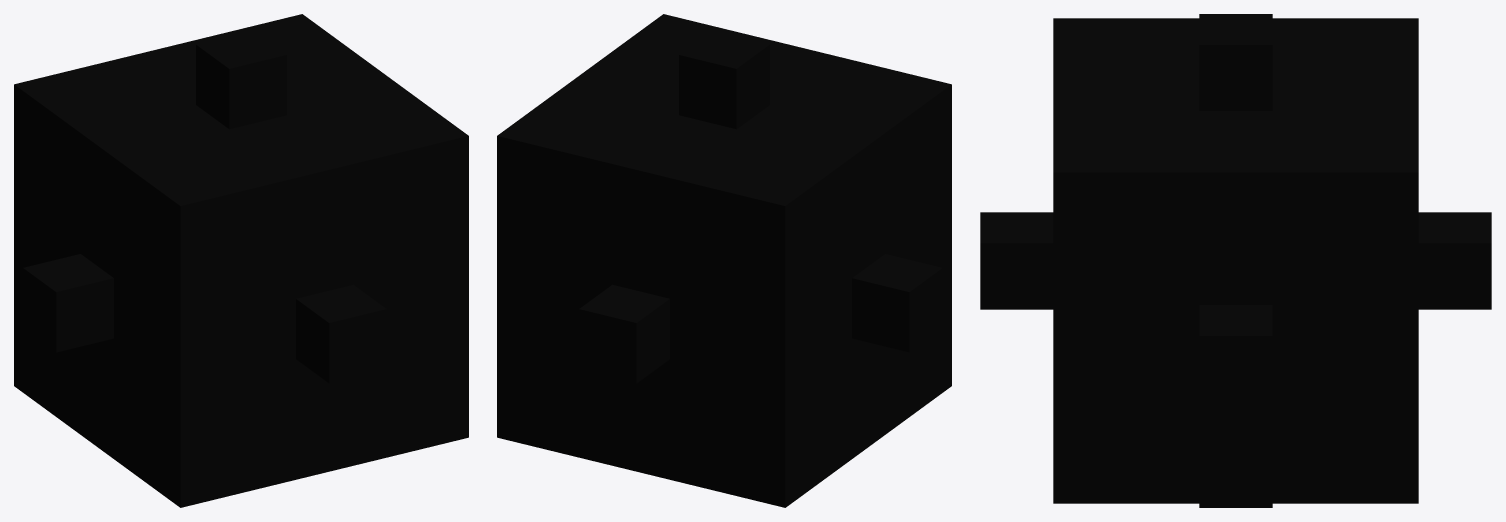
File: spacefloor.obj
3 renders of one model, left to right at view 1: azimuth 30°, elevation 25°; view 2: azimuth 150°, elevation 25°; view 3: azimuth 270°, elevation 25°, orthographic. The views are drawn at different scales.
Bounding box in the file's own units: 0.7 × 0.7 × 0.7.
